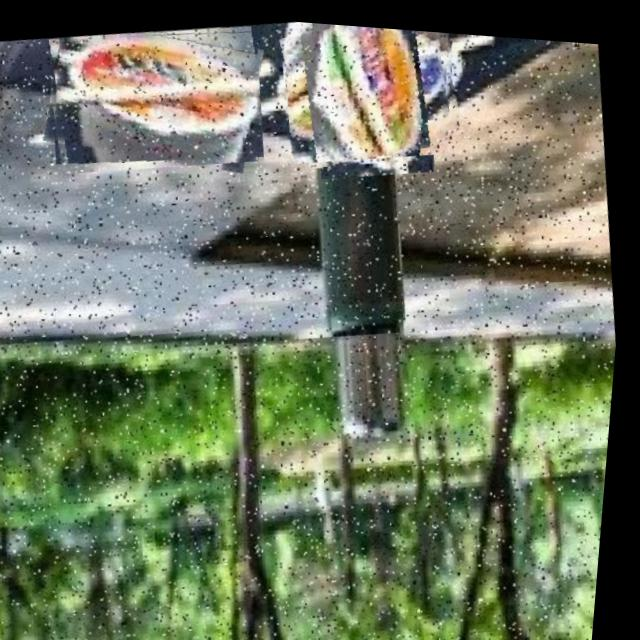Miscellaneous: (34, 9, 276, 186), (274, 17, 470, 168)
